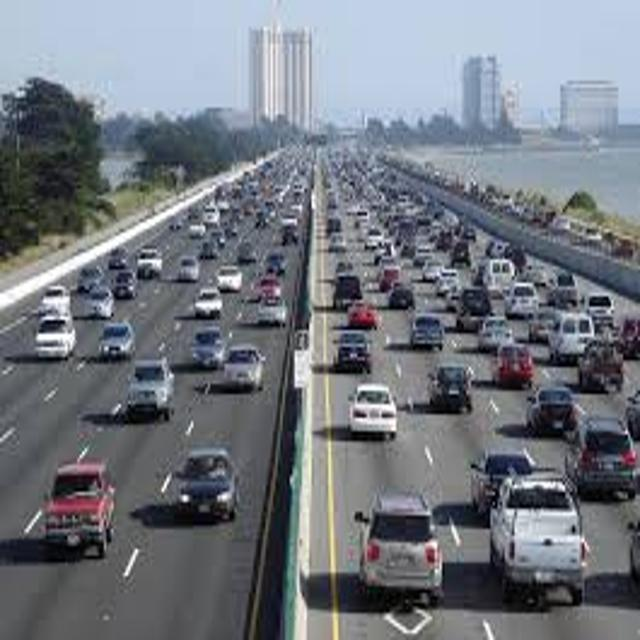car: (488, 475, 586, 601), (353, 493, 443, 603), (43, 461, 117, 556), (564, 418, 635, 494), (174, 449, 239, 518), (127, 360, 173, 418), (348, 384, 398, 437), (527, 388, 576, 437), (577, 343, 624, 391), (427, 364, 472, 408), (223, 345, 266, 387), (494, 345, 534, 387), (331, 331, 370, 371), (35, 317, 74, 356), (191, 327, 223, 366), (98, 324, 133, 358)
